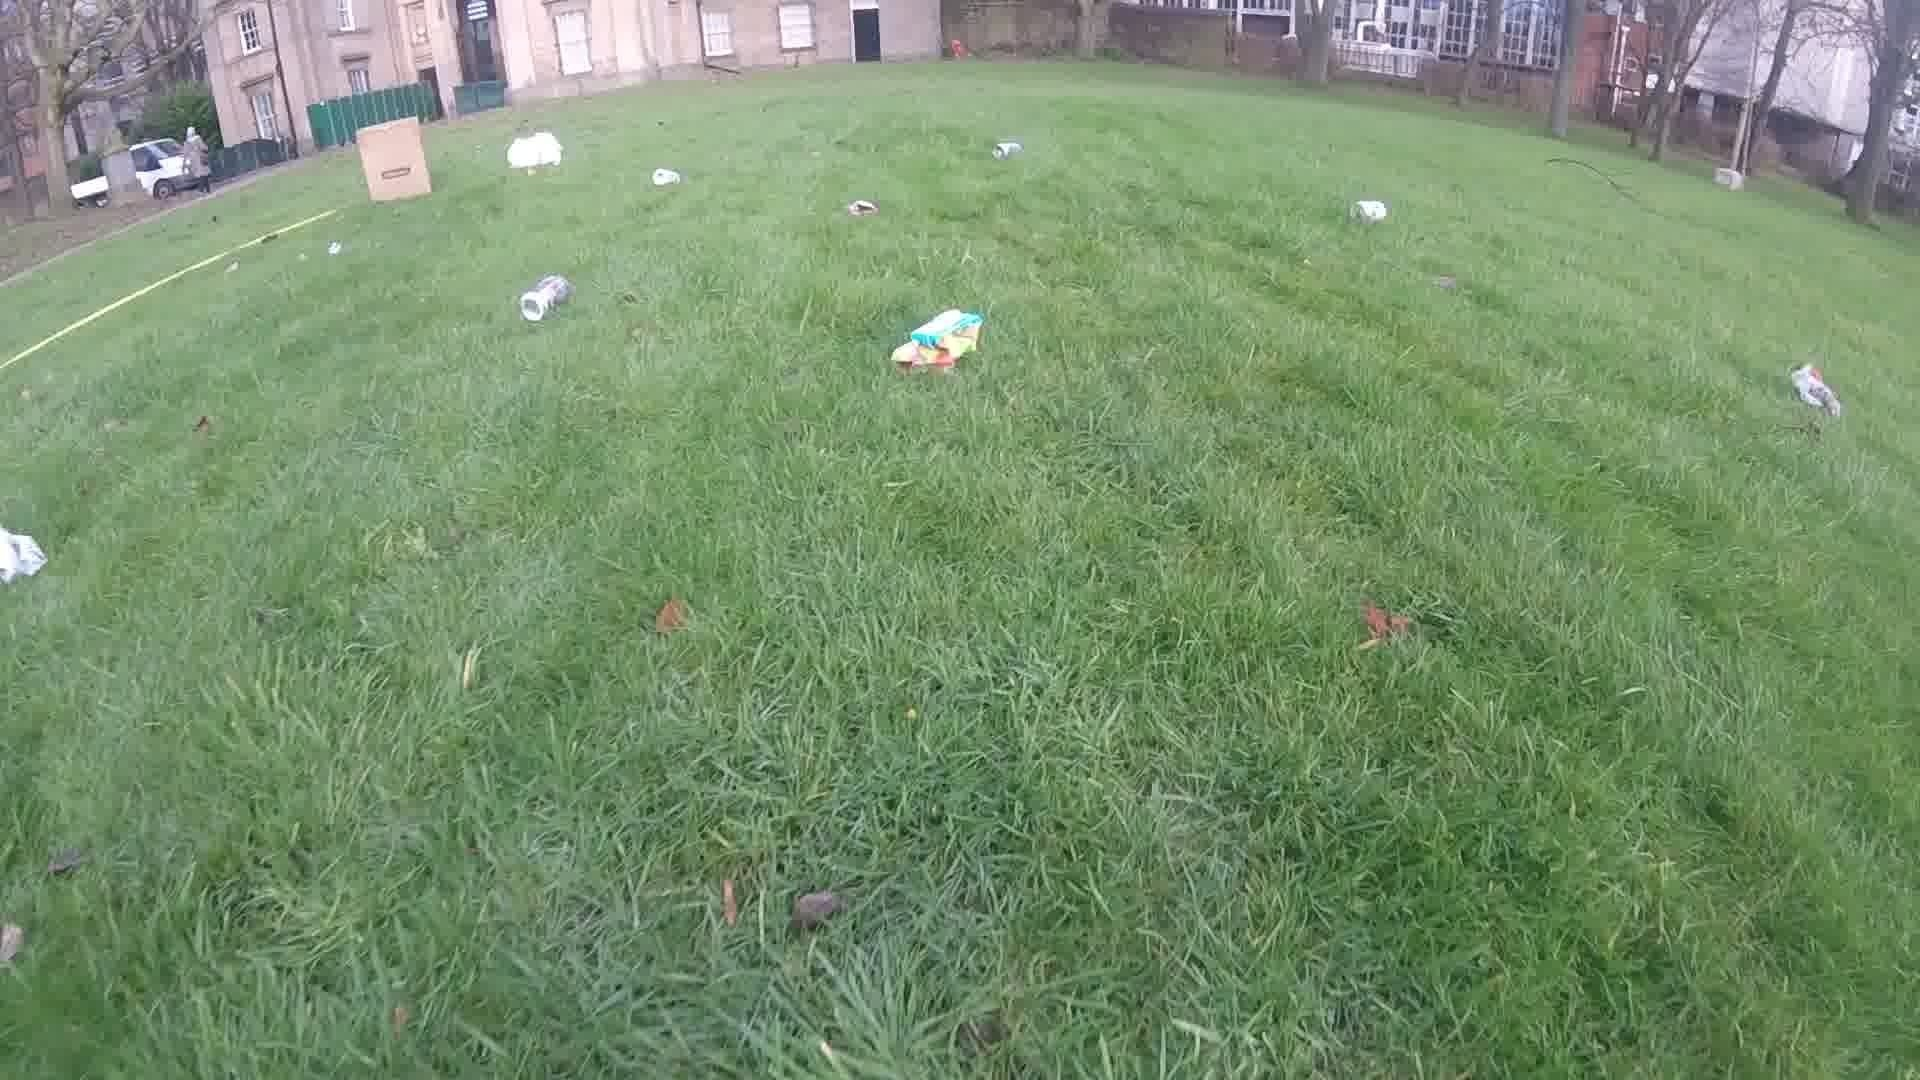litter: (356, 115, 433, 204), (891, 306, 981, 367), (520, 270, 572, 320), (1788, 363, 1838, 413), (1, 531, 49, 584), (506, 131, 560, 167), (1352, 200, 1389, 222), (843, 200, 877, 218), (992, 141, 1021, 160), (649, 167, 676, 185), (324, 243, 344, 253)
